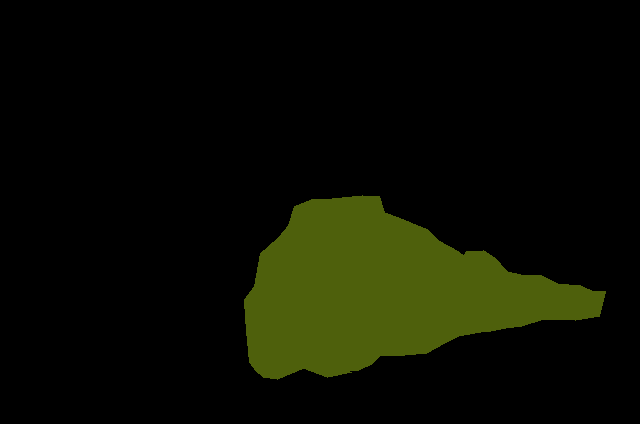Train: (244, 195, 605, 379)
